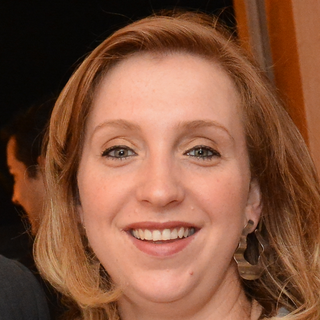eye: (175, 140, 225, 164), (97, 140, 143, 165)
